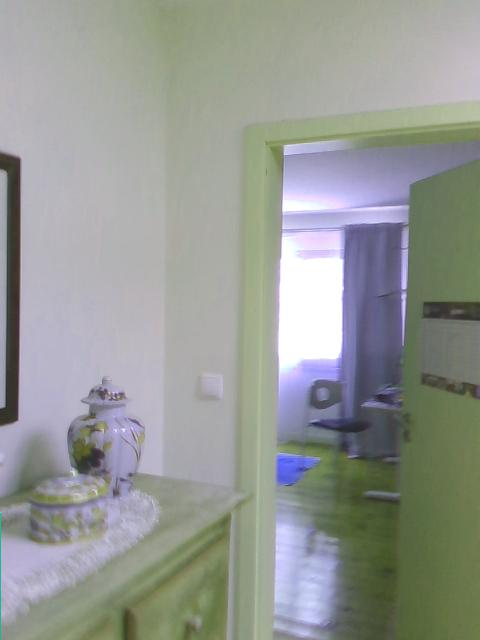semi_door: (233, 99, 479, 639)
